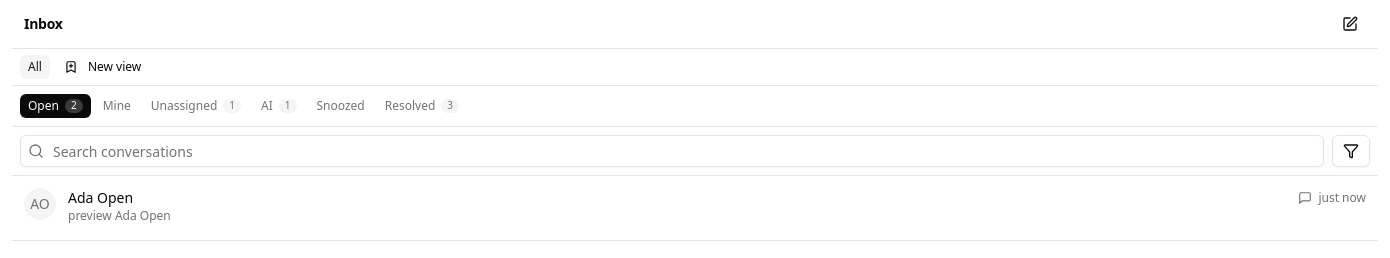
Test case: ConversationListPane › switches the filter when a status tab is clicked
This screenshot has width=1390, height=258.
Expected: the text "Ada Open" is shown, [68,188,133,208]
Click the button "Resolved 3" at [422, 106], box [377,94,467,118]
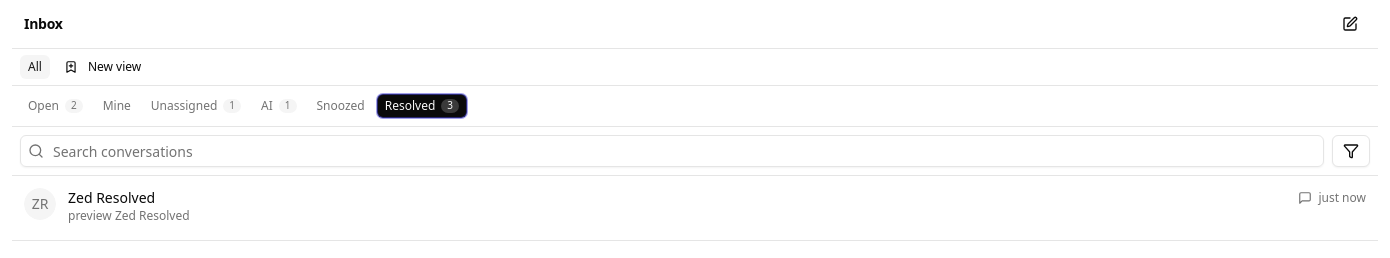
Now the text "Zed Resolved" is shown, box [68,188,155,208]
Now the button "Ada Open" is gone
